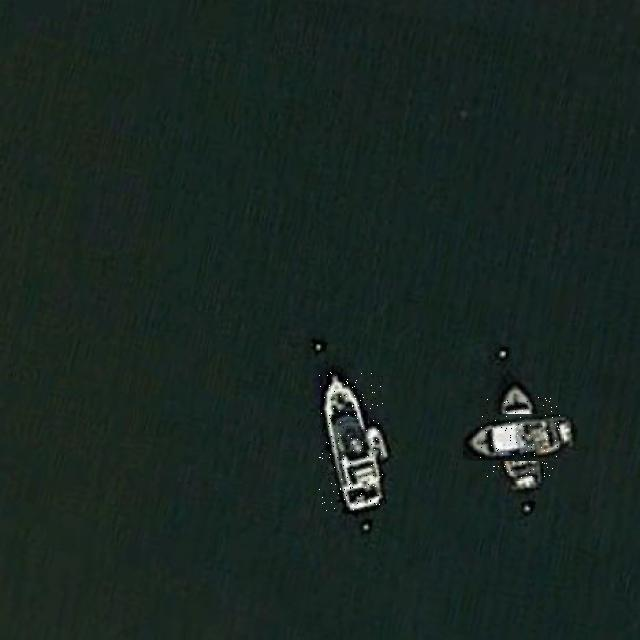boat: (319, 372, 383, 511), (480, 397, 561, 478)
